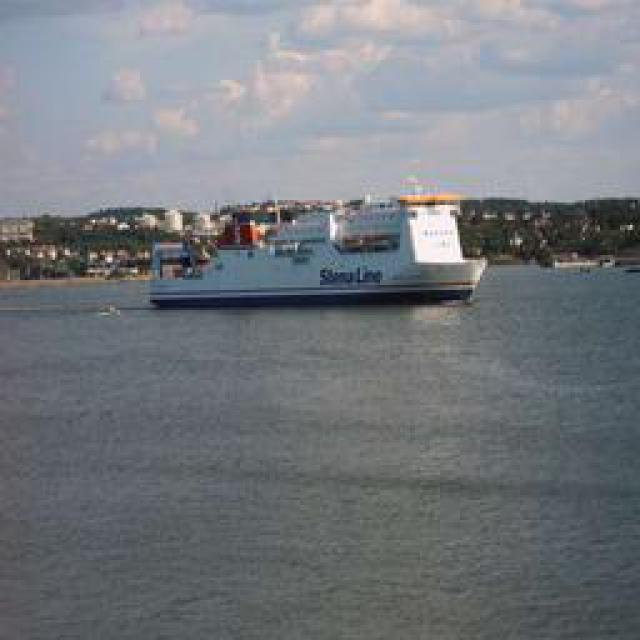Ship: (150, 196, 490, 311)
